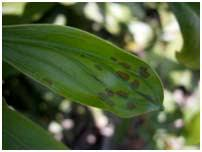Xanthomonas: (96, 56, 149, 110)
